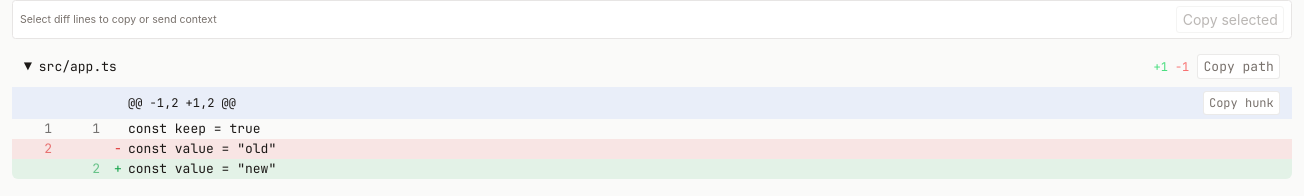
Test: DiffViewer actions › toggles clicked rows off and clears selection from outside the code area
Press the mouse on the button with test id "diff-line-row" showing "2 + const value = \"new\"" at (202, 168), box [12, 158, 1292, 178]
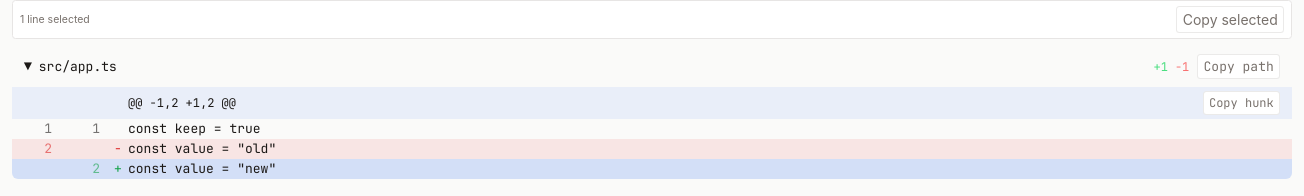
expect the text "1 line selected" is shown: met, box [20, 12, 90, 26]
Press the mouse on the button with test id "diff-line-row" showing "2 + const value = \"new\"" at (202, 168), box [12, 158, 1292, 178]
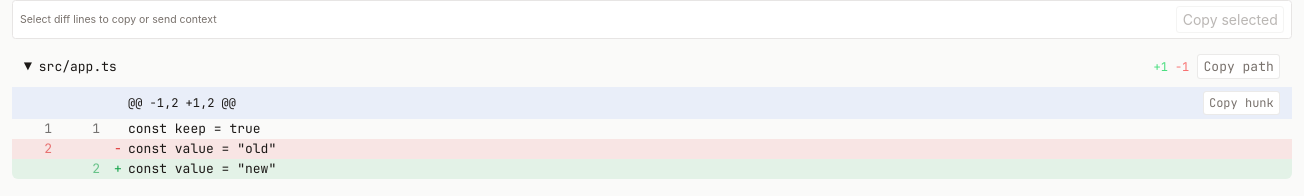
expect the text "Select diff lines to copy or send context" is shown: met, box [20, 12, 217, 26]
Press the mouse on the button with test id "diff-line-row" showing "2 + const value = \"new\"" at (202, 168), box [12, 158, 1292, 178]
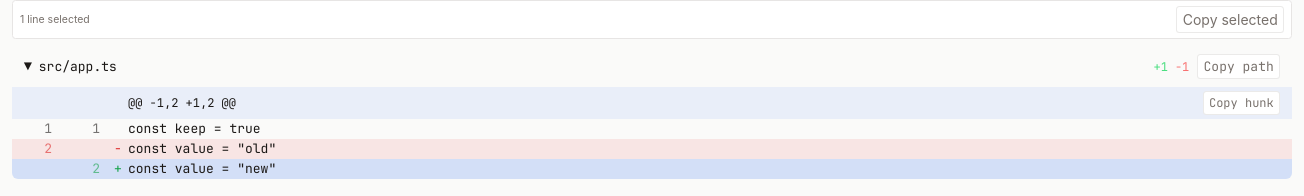
Press the mouse on the text "src/app.ts" at (78, 66), box [39, 58, 117, 75]
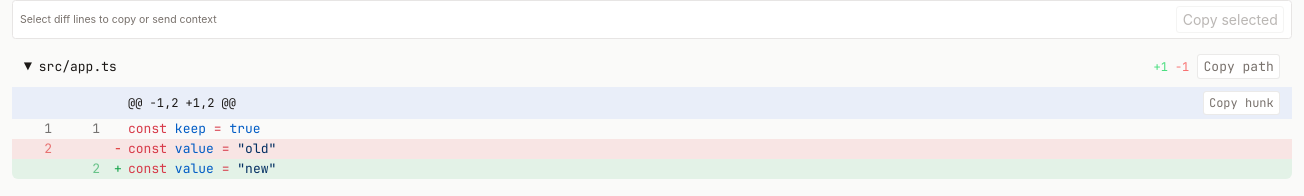
expect the text "Select diff lines to copy or send context" is shown: met, box [20, 12, 217, 26]
